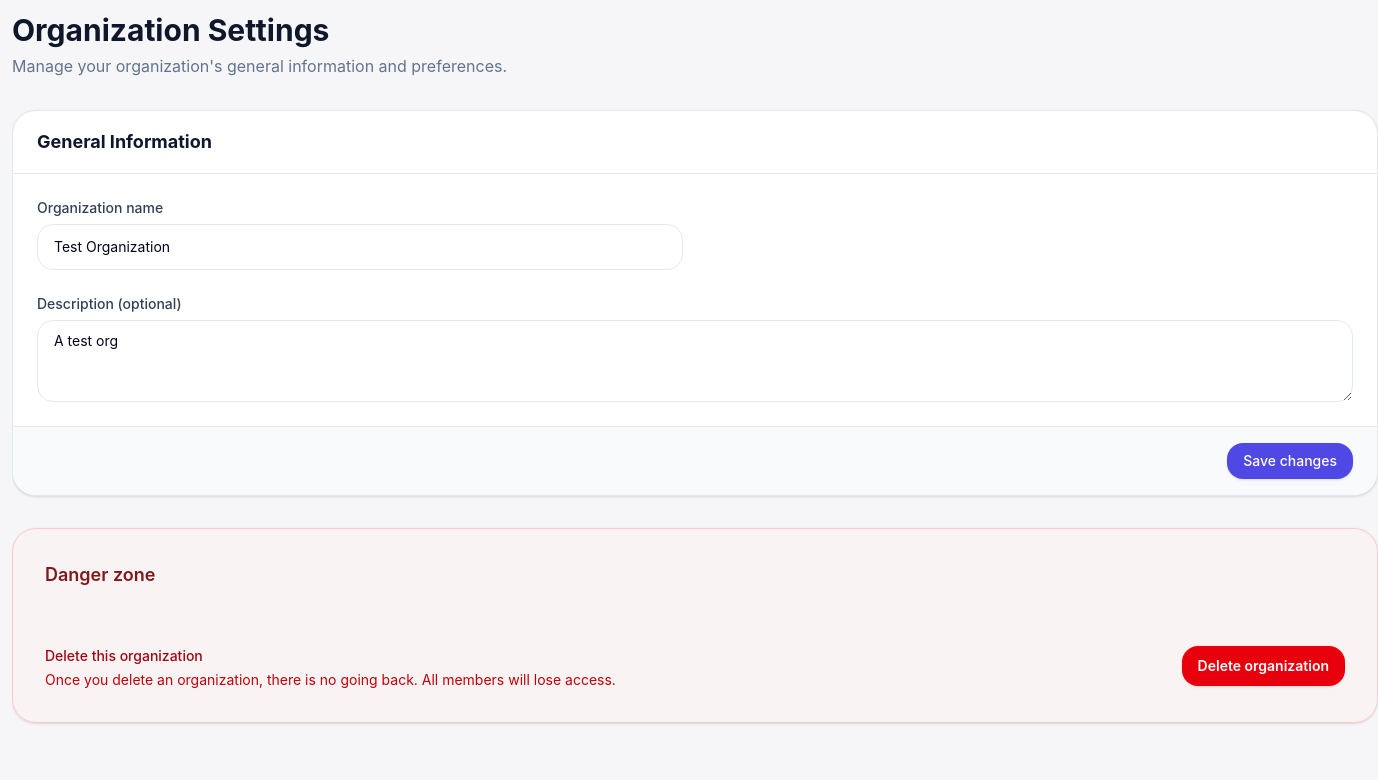
OrgSettingsForm › submits successfully and shows success toast
Replace the text in the field labelled "Organization name" with "Updated Org" at (360, 247), box [37,224,683,270]
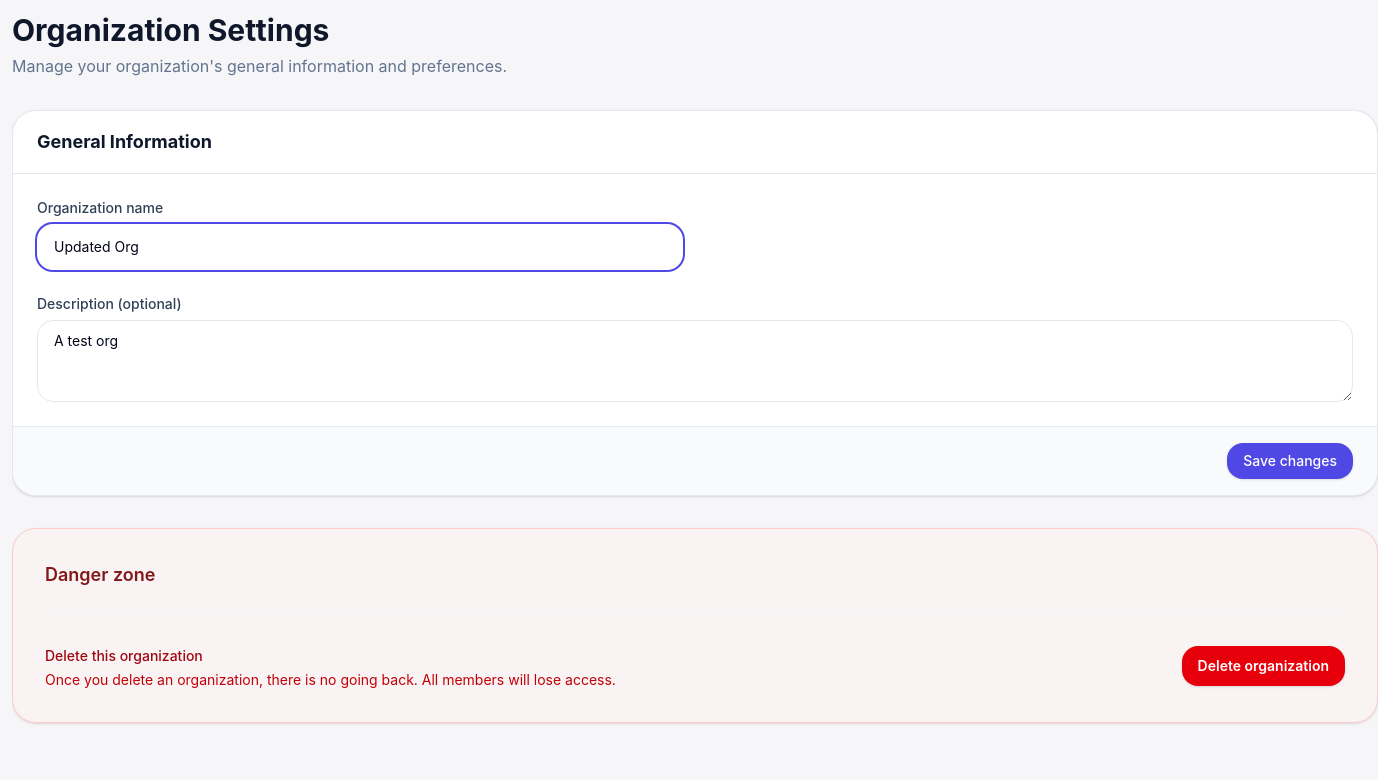
Click the button "Save changes".
click(1290, 461)  # box [1227,443,1353,479]
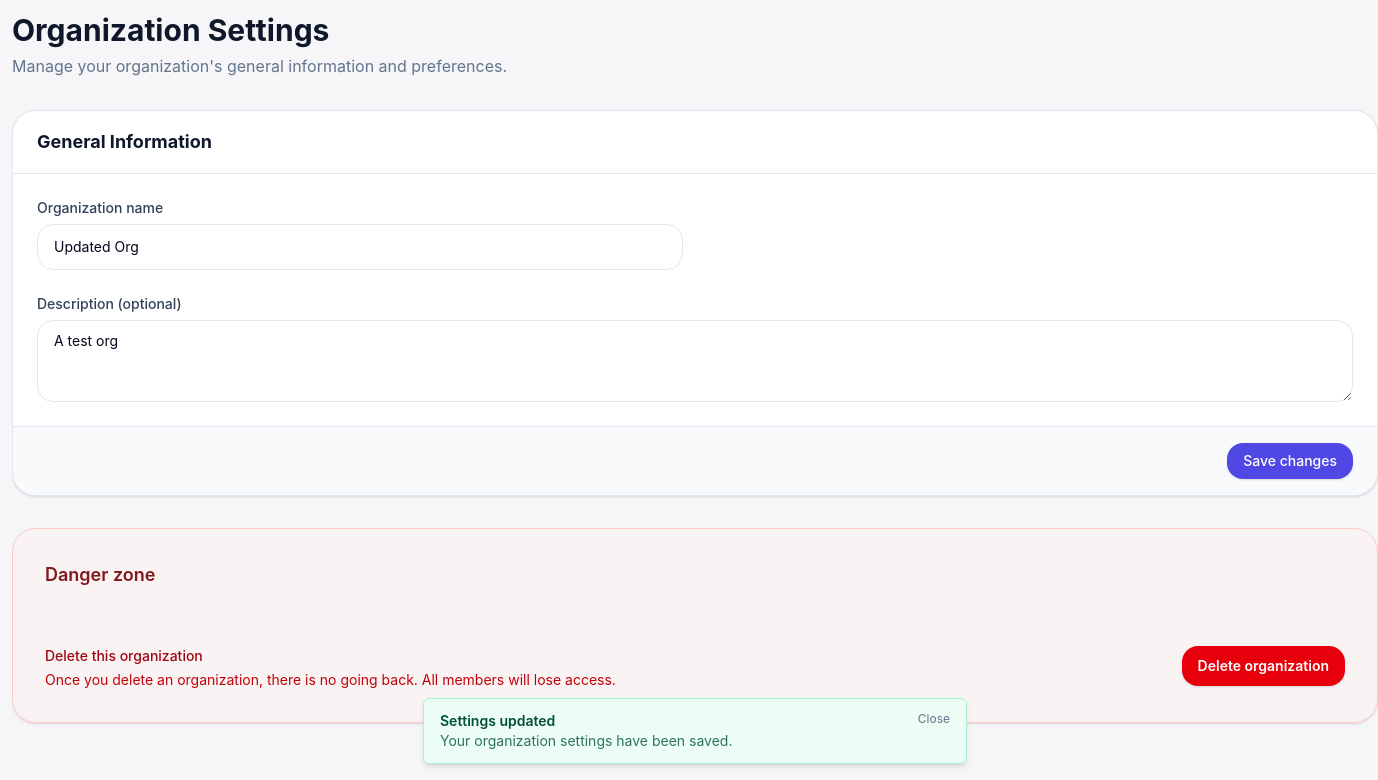
Check: the text "Settings updated" is shown, box [440,712,555,729]
